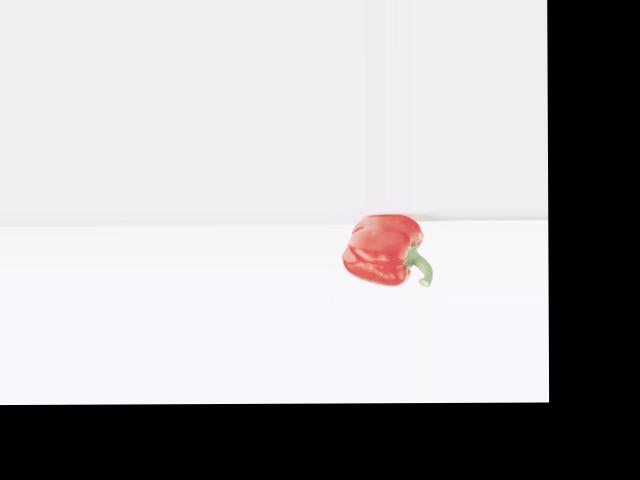bell_pepper: (337, 211, 441, 290)
